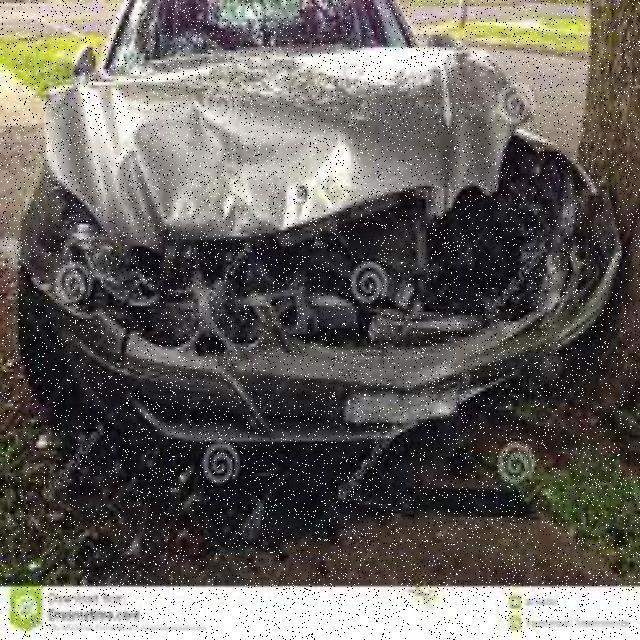headlight: (39, 44, 530, 265)
hood: (41, 255, 537, 451)
